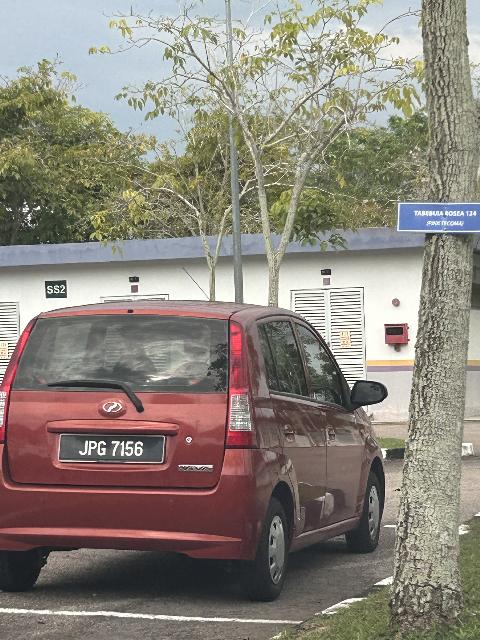License_Plate: (57, 435, 168, 470)
car: (2, 297, 403, 609)
